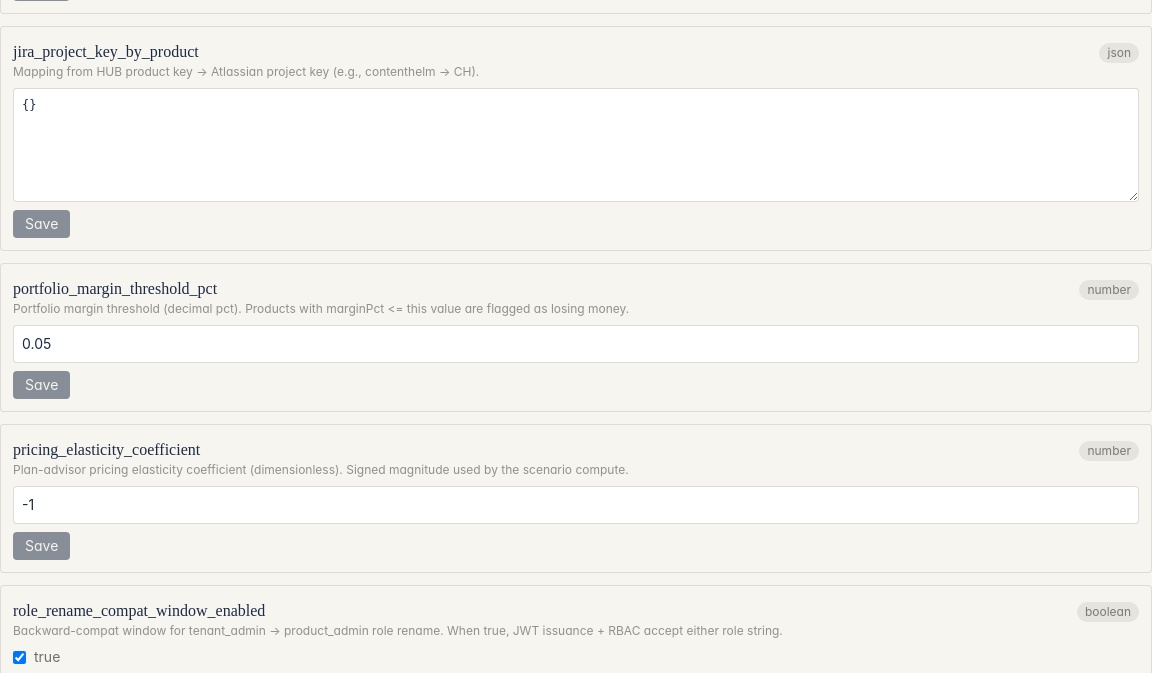
HubSettingsManager (HUB-1664) › number type editor › saves a valid number and passes the parsed number in the PUT body
(page scrolled)
Step 1. Replace the text in the number field with test id "hub-settings-input-portfolio_margin_threshold_pct" with "0.08" → (576, 344), box [13, 325, 1139, 363]
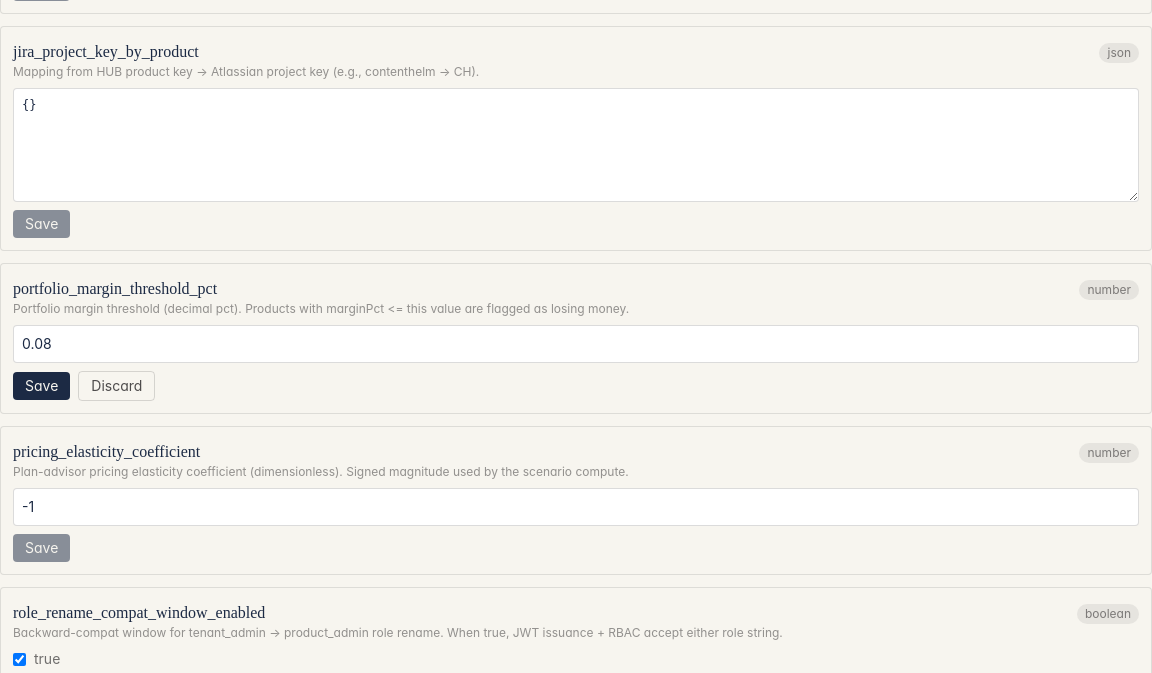
Step 2. Click the button with test id "hub-settings-save-portfolio_margin_threshold_pct" → (42, 386), box [13, 372, 70, 400]
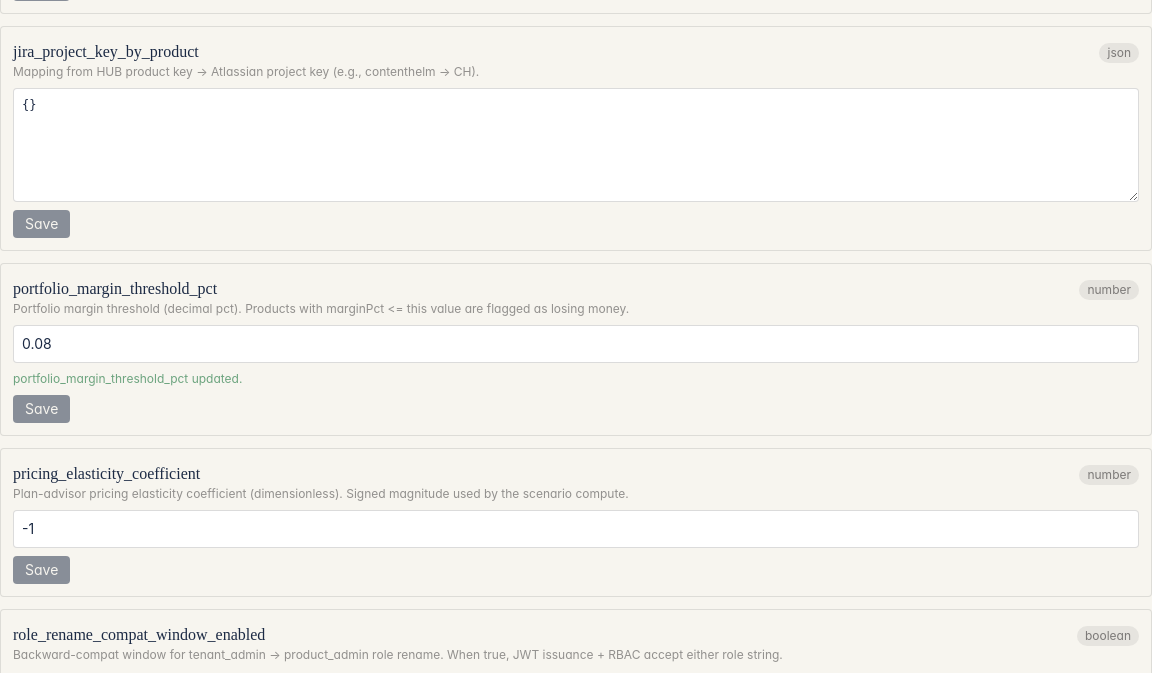
Expected: the message "portfolio_margin_threshold_pct updated." is shown, [13, 371, 242, 386]
